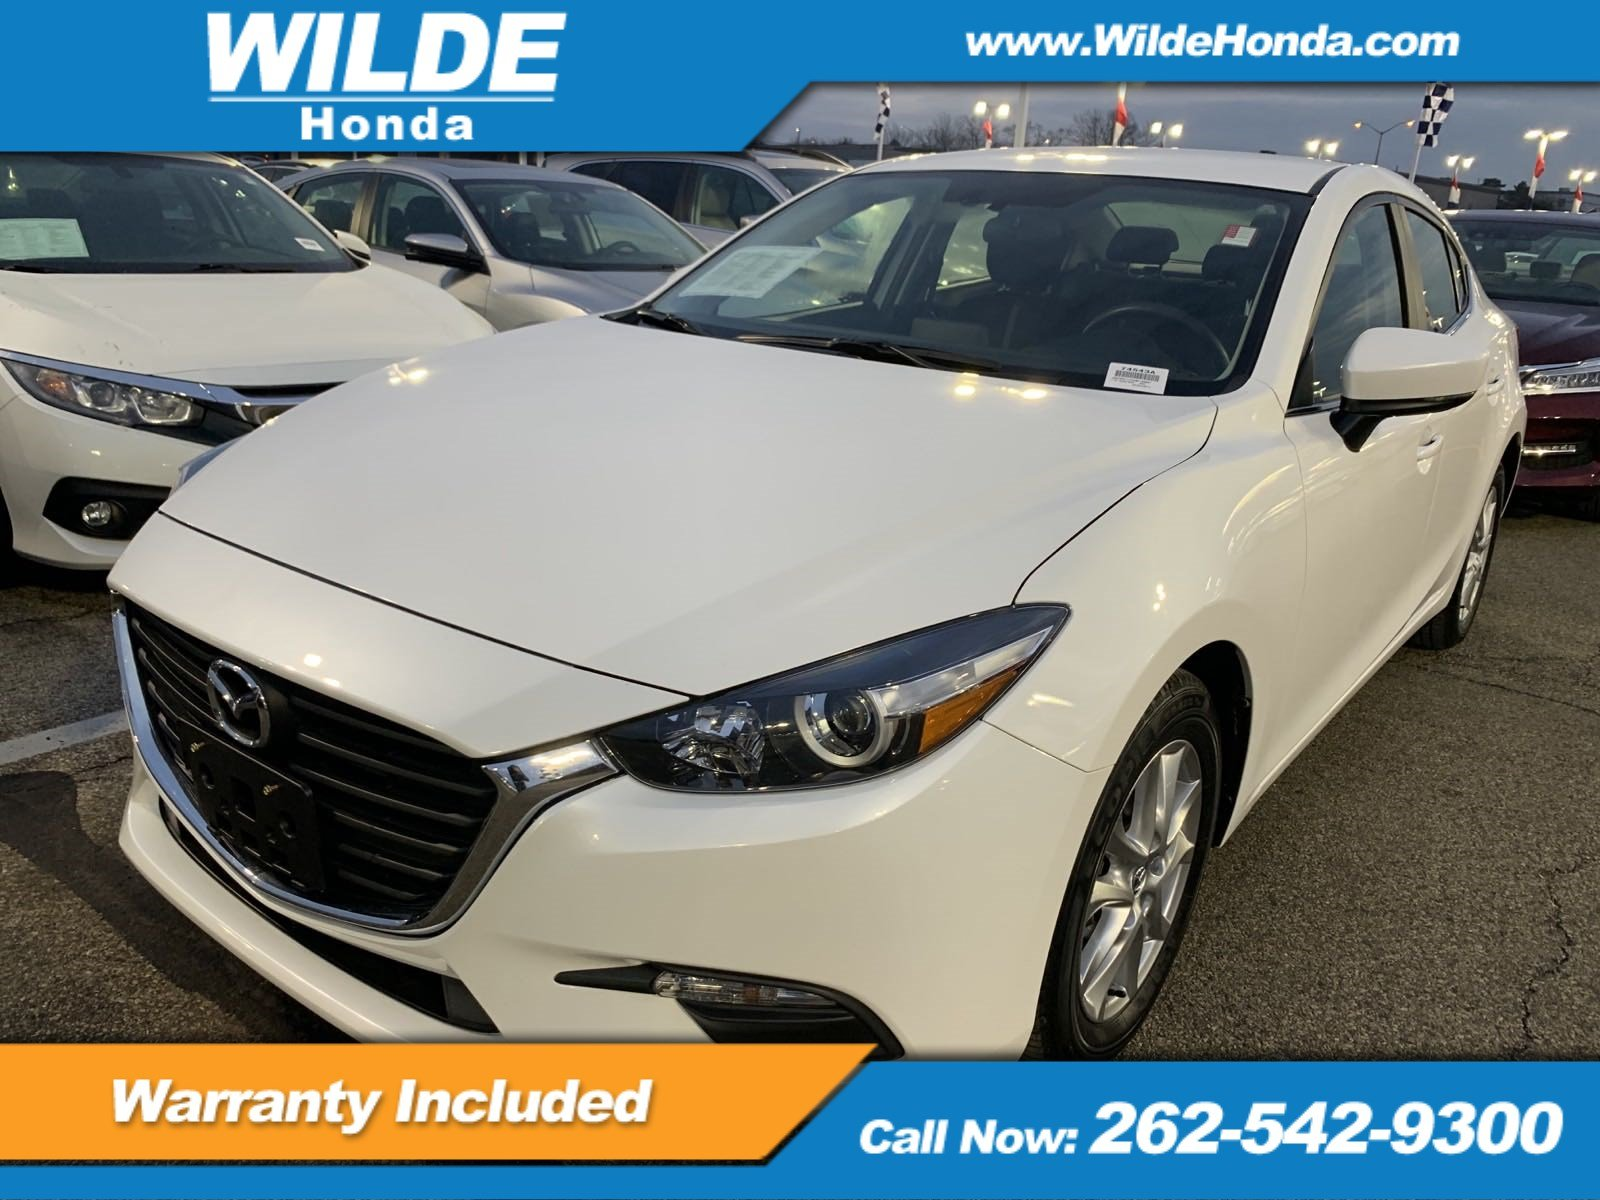Mazda3 Hatchback: (102, 140, 1526, 1047)
